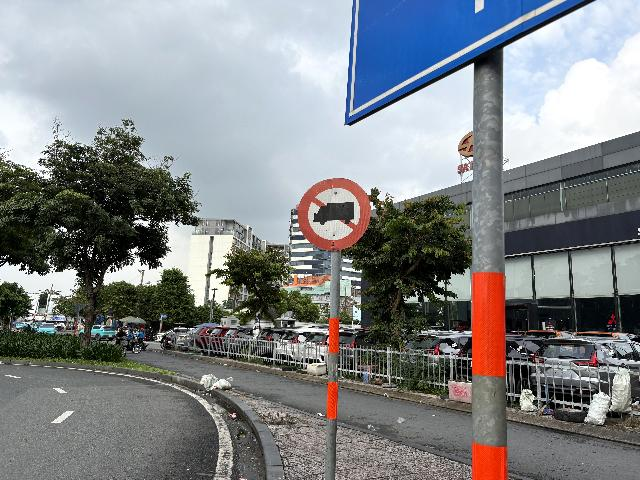cam-xe-tai: (297, 177, 371, 252)
